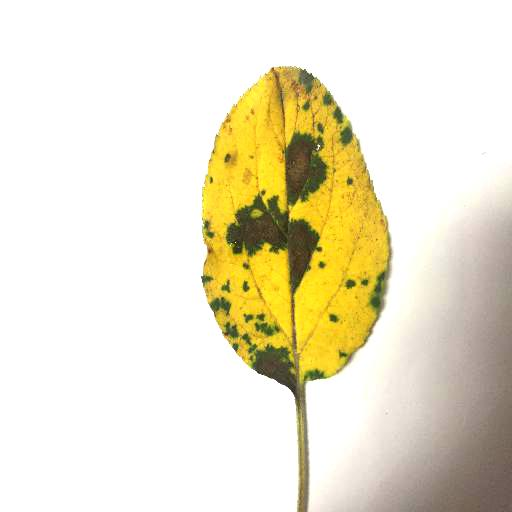Brown_Spot: (231, 201, 329, 279), (280, 136, 338, 201), (245, 348, 299, 392)
